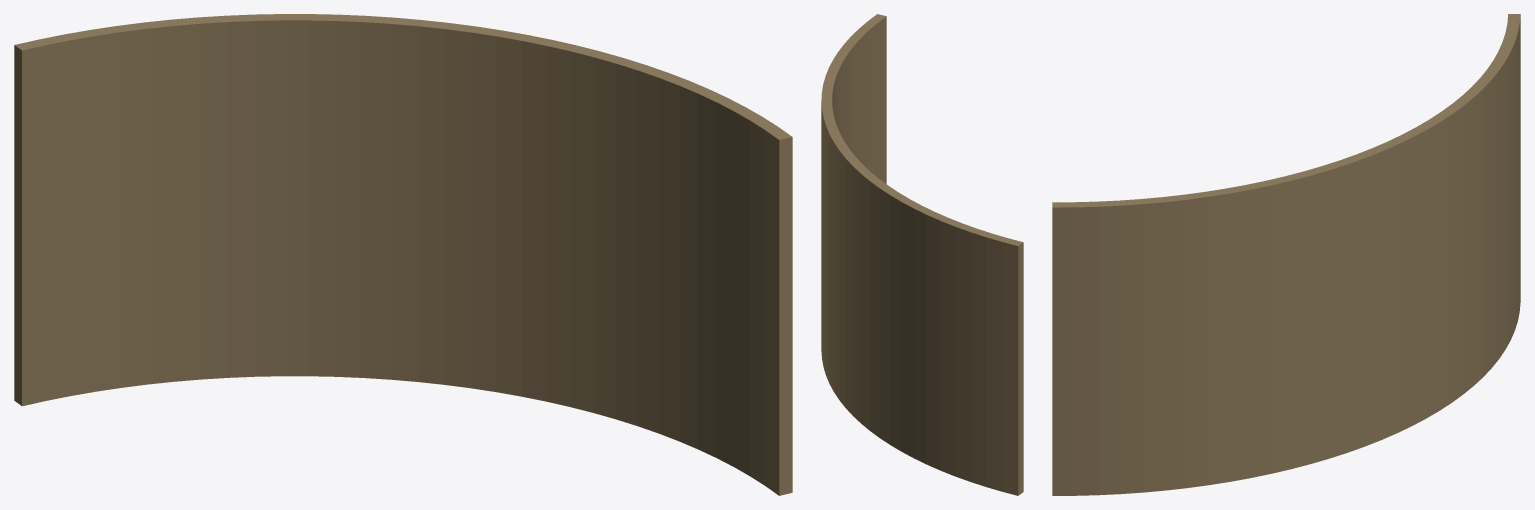
Rendered from Wall_N4_Bend_03.fbx.
3 renders of one model, left to right at view 1: azimuth 30°, elevation 25°; view 2: azimuth 150°, elevation 25°; view 3: azimuth 270°, elevation 25°, orthographic. The views are drawn at different scales.
Visible parts, largest first — view 1: Wall_N4_Bend_03; view 2: Wall_N4_Bend_03; view 3: Wall_N4_Bend_03.
Part boxes in pixels (left/top/right/bottom): Wall_N4_Bend_03: left=14, top=14, right=792, bottom=495; Wall_N4_Bend_03: left=821, top=14, right=1023, bottom=495; Wall_N4_Bend_03: left=1052, top=14, right=1520, bottom=495.
Size of the model in its own units: 823 by 572 by 842.
